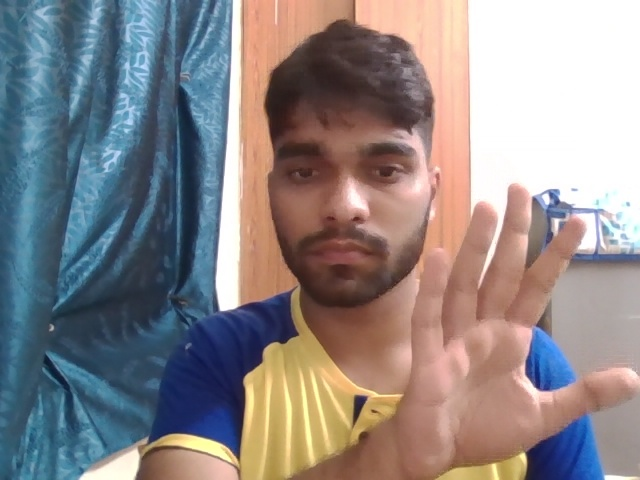Hello: (384, 169, 634, 480)
